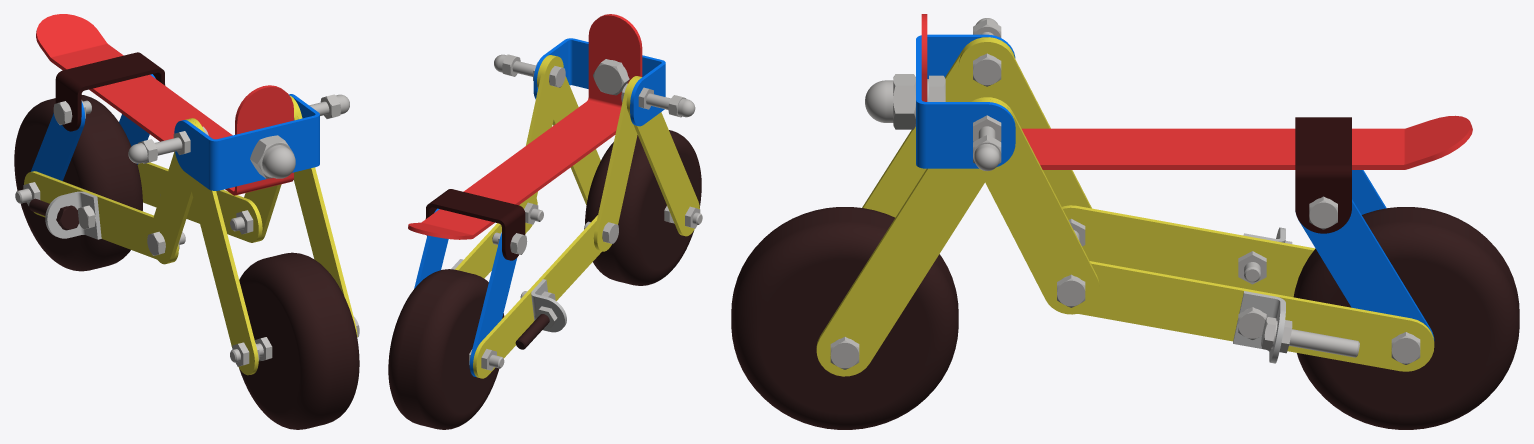
The model's file is moto_samenstelling.glb.
3 renders of one model, left to right at view 1: azimuth 30°, elevation 25°; view 2: azimuth 150°, elevation 25°; view 3: azimuth 270°, elevation 25°, orthographic. The views are drawn at different scales.
Parts seen in each view (by area): view 1: Voorwiel, Zadelsteun, Achterwiel, Koplampsteun, Solid1 (×8), Voorvork_links, Middenbrug_links, Zadel, Voorvork_rechts, Voorbrug_links, Middenbrug_rechts, Achterbrug_links (+3 smaller); view 2: Achterwiel, Zadelsteun, Voorwiel, Middenbrug_links, Solid1 (×8), Voorvork_links, Koplampsteun, Voorbrug_links, Zadel, Achterbrug_links, Voorvork_rechts, Voorbrug_rechts (+3 smaller); view 3: Voorwiel, Achterwiel, Zadelsteun, Middenbrug_rechts, Voorvork_rechts, Middenbrug_links, Solid1 (×9), Voorbrug_rechts, Koplampsteun, Achterbrug_rechts, Zadel, Voorbrug_links (+3 smaller).
Boxes of the visible parts, box(x1,y1,x2,y2) form: Voorwiel: box(239, 252, 359, 429); Zadelsteun: box(36, 14, 293, 195); Achterwiel: box(14, 95, 142, 271); Koplampsteun: box(174, 94, 319, 190); Solid1 (×8): box(29, 94, 349, 255); Voorvork_links: box(185, 119, 258, 375); Middenbrug_links: box(24, 171, 178, 262); Zadel: box(55, 52, 164, 131); Voorvork_rechts: box(289, 95, 357, 336); Voorbrug_links: box(149, 118, 204, 264); Middenbrug_rechts: box(137, 162, 262, 242); Achterbrug_links: box(31, 101, 85, 180); Achterwiel: box(388, 269, 504, 429); Zadelsteun: box(408, 14, 642, 239); Voorwiel: box(585, 130, 701, 285); Middenbrug_links: box(473, 215, 601, 378); Solid1 (×8): box(492, 54, 695, 349); Voorvork_links: box(626, 76, 699, 236); Koplampsteun: box(533, 38, 665, 126); Voorbrug_links: box(593, 76, 639, 251); Zadel: box(426, 189, 525, 260); Achterbrug_links: box(469, 233, 516, 377); Voorvork_rechts: box(537, 55, 600, 205); Voorbrug_rechts: box(526, 55, 563, 197); Voorwiel: box(731, 207, 958, 429); Achterwiel: box(1293, 207, 1519, 429); Zadelsteun: box(921, 14, 1472, 169); Middenbrug_rechts: box(1078, 261, 1434, 371); Voorvork_rechts: box(816, 99, 1015, 376); Middenbrug_links: box(1062, 205, 1315, 297); Solid1 (×9): box(830, 32, 1420, 369); Voorbrug_rechts: box(971, 97, 1099, 314); Koplampsteun: box(916, 34, 1015, 168); Achterbrug_rechts: box(1298, 199, 1434, 340); Zadel: box(1295, 117, 1351, 233); Voorbrug_links: box(958, 39, 1091, 208).
Bounding box in the file's own units: 0.1153 × 0.1565 × 0.2773.
